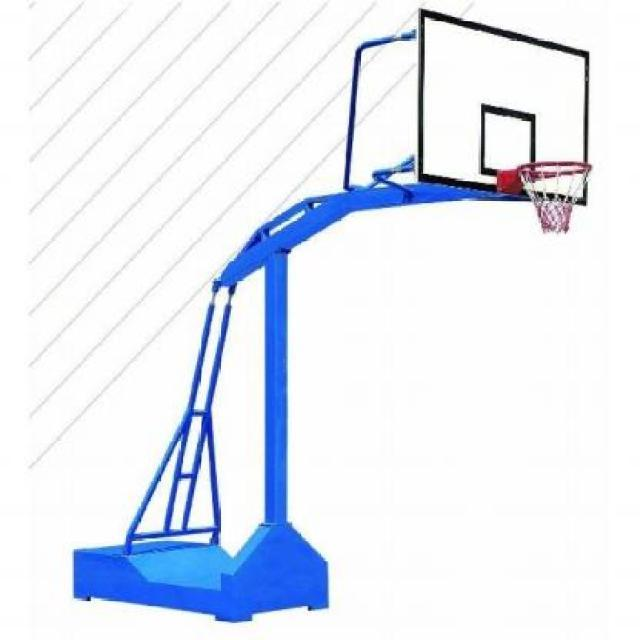rim: (518, 161, 594, 235)
